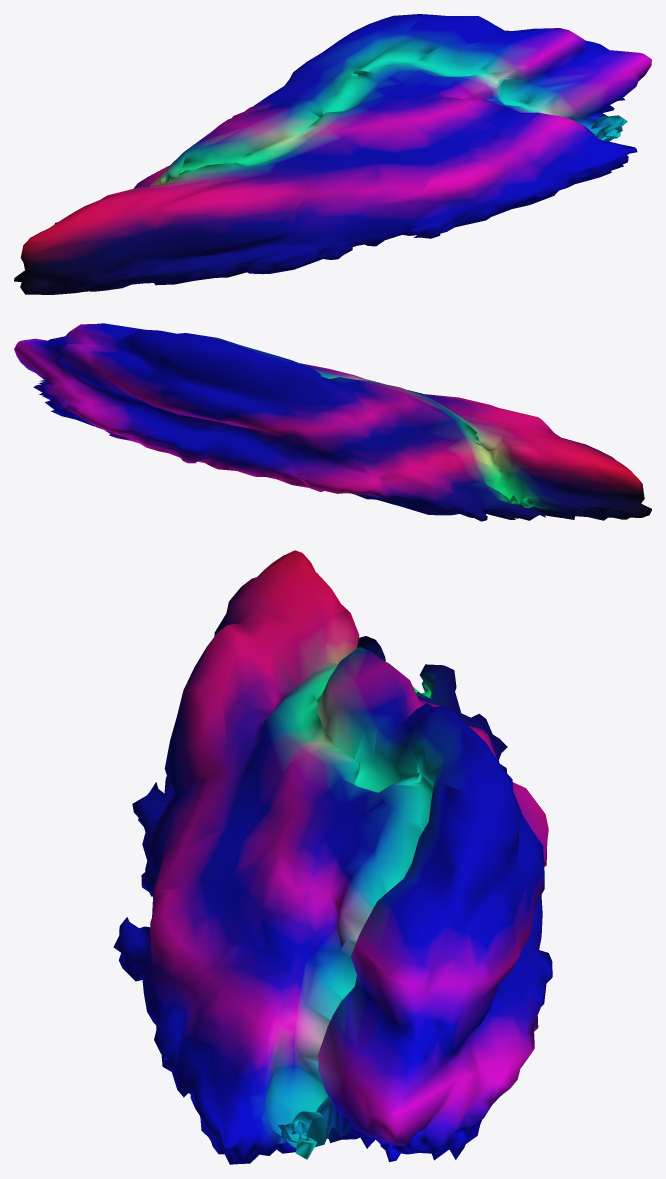
File: copper_vein-u8-cracked-lod0.gltf
3 views of the same model, one above another, from view 1: azimuth 30°, elevation 25°; view 2: azimuth 150°, elevation 25°; view 3: azimuth 270°, elevation 25° (orthographic). The views are drawn at different scales.
Parts seen in each view (by area): view 1: copper_vein-u8-cracked-lod0; view 2: copper_vein-u8-cracked-lod0; view 3: copper_vein-u8-cracked-lod0.
Part boxes in pixels (x1,y1,x2,y2): copper_vein-u8-cracked-lod0: [14, 14, 651, 294]; copper_vein-u8-cracked-lod0: [14, 323, 651, 521]; copper_vein-u8-cracked-lod0: [113, 550, 552, 1164].
Size of the model in its own units: 2.49 by 0.4884 by 0.7779.
